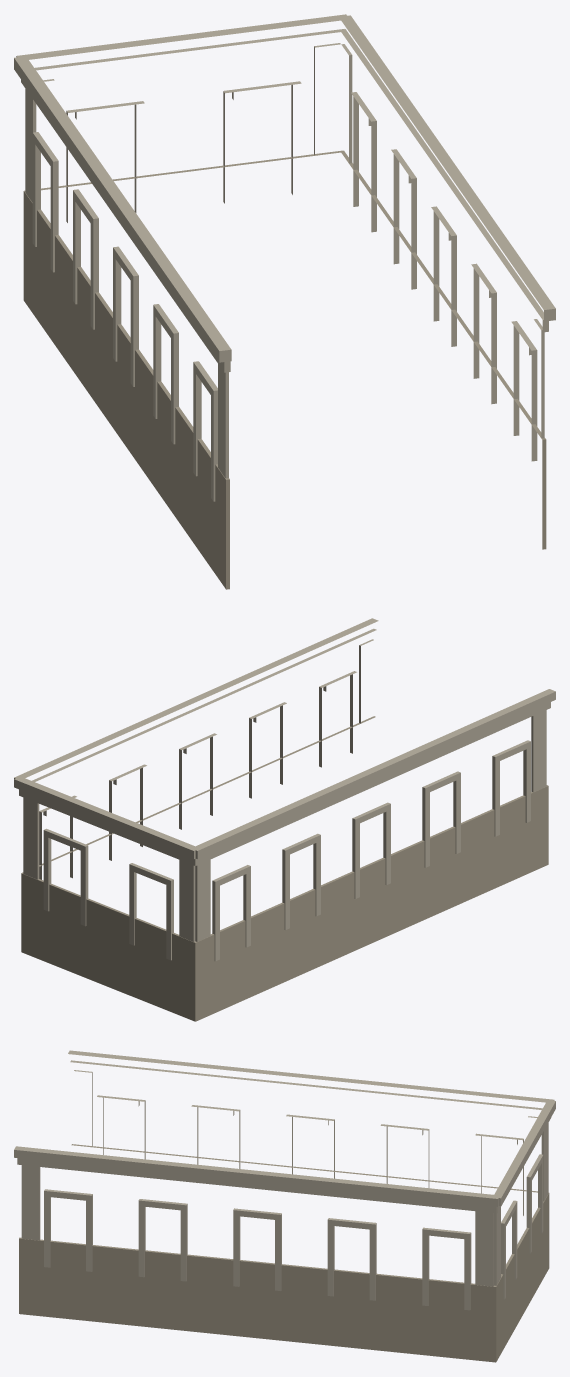
The picture shows the model from 3 angles, top to bottom: view 1: azimuth 30°, elevation 25°; view 2: azimuth 150°, elevation 25°; view 3: azimuth 270°, elevation 25°; orthographic projection. The views are drawn at different scales.
Parts seen in each view (by area): view 1: detail; view 2: detail; view 3: detail.
Boxes of the visible parts, x1,y1,x2,y2 form: detail: (14, 14, 555, 589); detail: (14, 618, 555, 1021); detail: (14, 1050, 555, 1362).
Size of the model in its own units: 11.29 by 5.89 by 17.4.
